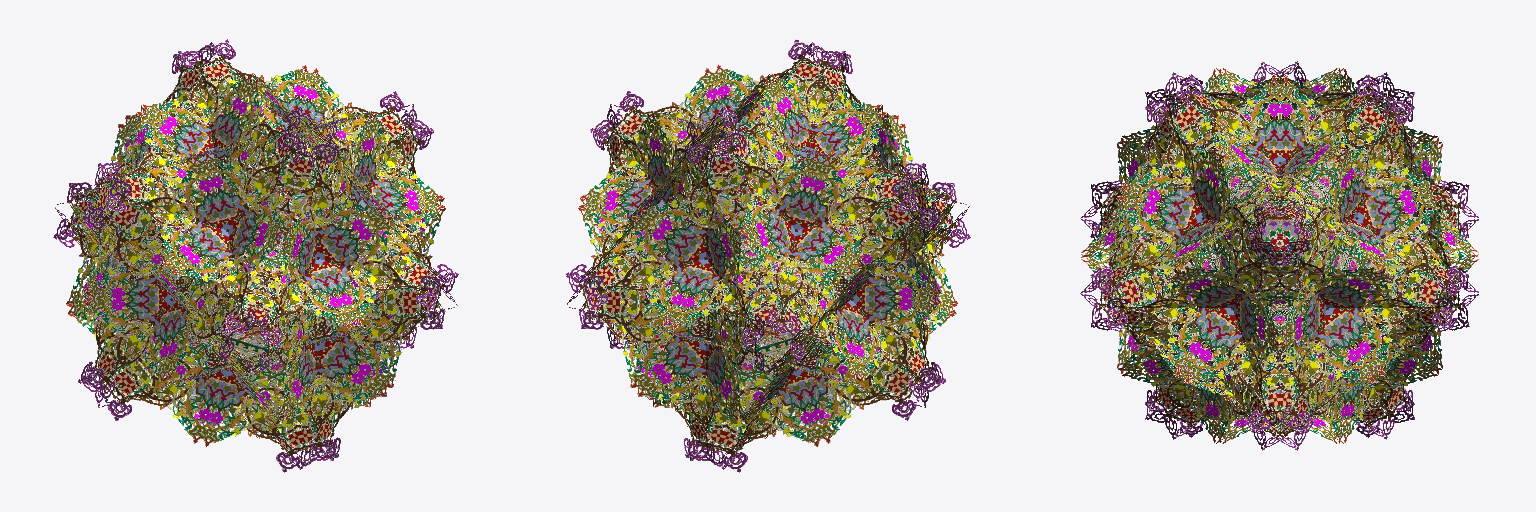
3 views of the same model, side by side, from view 1: azimuth 30°, elevation 25°; view 2: azimuth 150°, elevation 25°; view 3: azimuth 270°, elevation 25° (orthographic).
Bounding box in the file's own units: 1.62 × 1.62 × 1.62.
Materials: 1 (1 with a texture image).